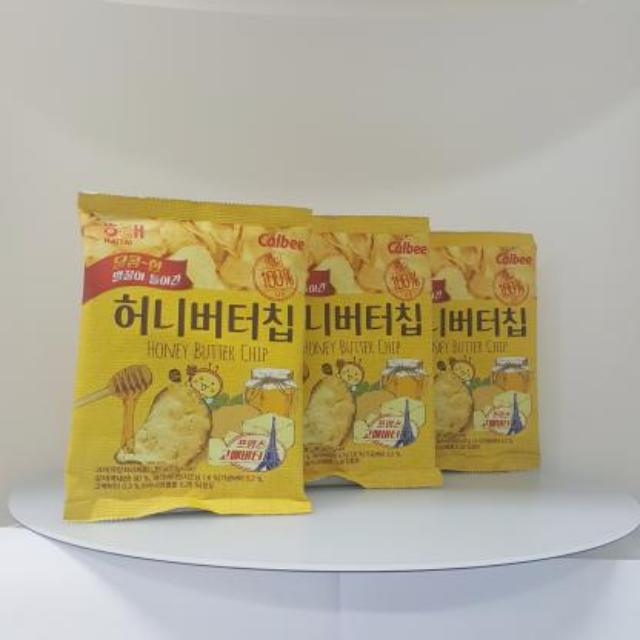snack_bag: (55, 181, 561, 537)
